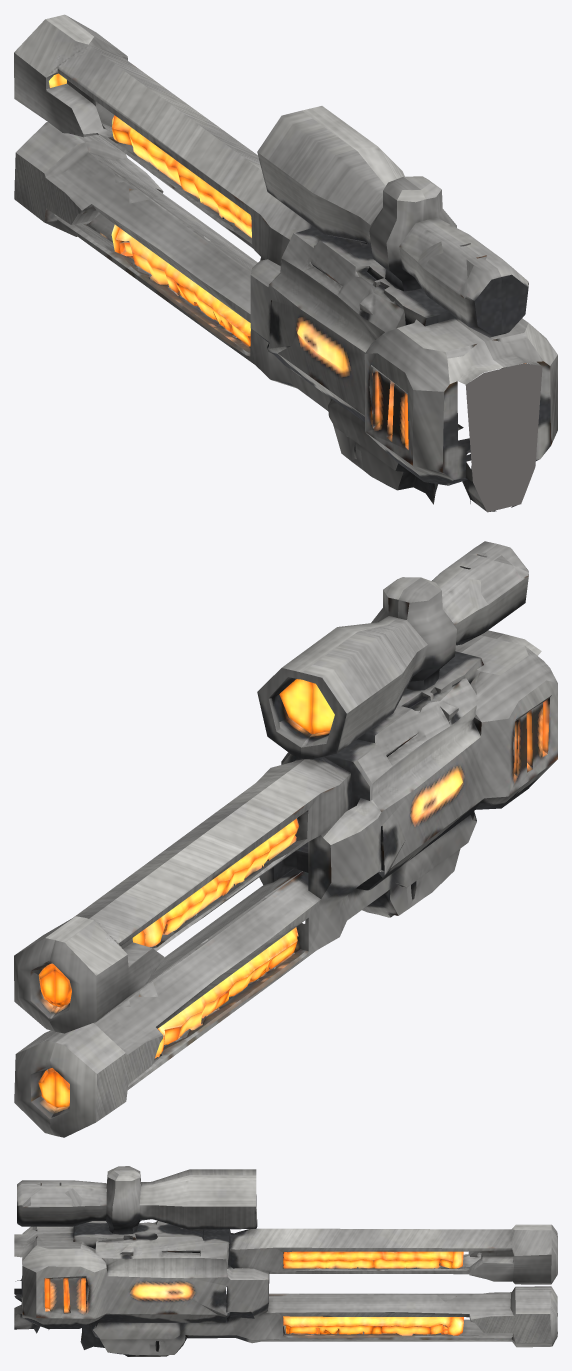
File: rail_rifle.glb
3 renders of one model, top to bottom at view 1: azimuth 30°, elevation 25°; view 2: azimuth 150°, elevation 25°; view 3: azimuth 270°, elevation 25°, orthographic. The views are drawn at different scales.
Visible parts, largest first — view 1: rail_rifle_world; view 2: rail_rifle_world; view 3: rail_rifle_world.
Boxes of the visible parts, <box> form: rail_rifle_world: <box>14,14,557,512</box>; rail_rifle_world: <box>14,541,557,1137</box>; rail_rifle_world: <box>14,1166,557,1356</box>.
Bounding box in the file's own units: 0.1623 × 0.3279 × 0.8808.
Materials: 1 (1 with a texture image).
